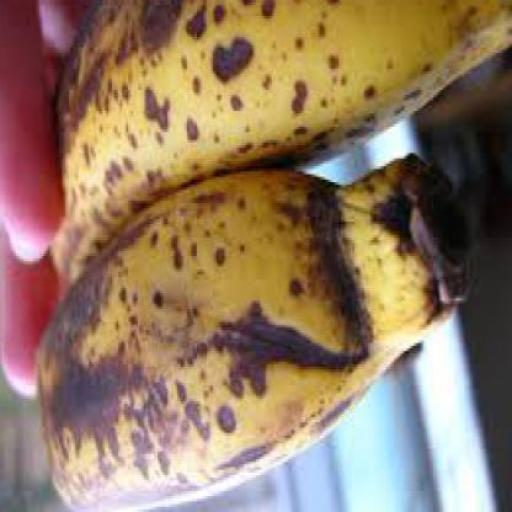biodegradable: (43, 158, 476, 510), (53, 3, 511, 294)
